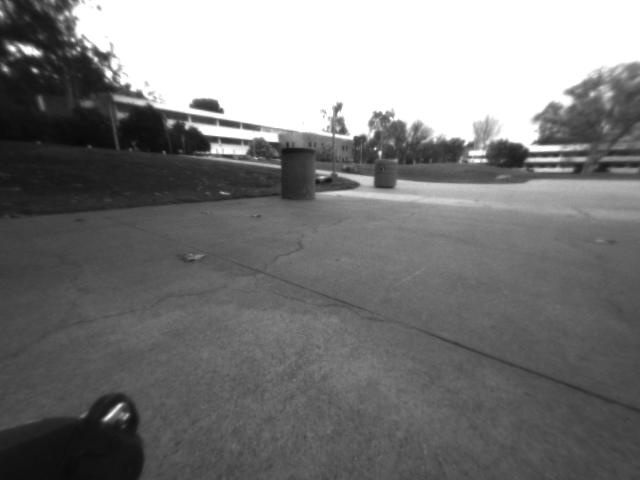trashcan: (281, 149, 319, 201), (375, 156, 396, 189)
